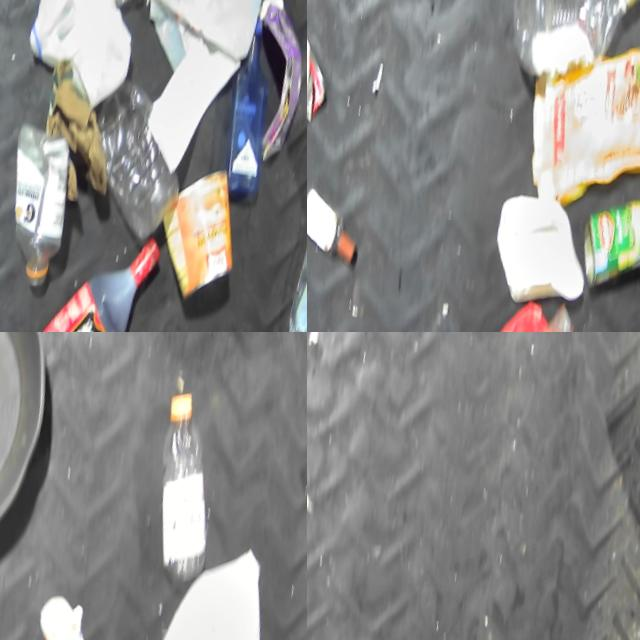can: (557, 189, 640, 295), (615, 179, 640, 301)
milk_jug: (93, 526, 282, 640), (2, 0, 148, 118), (114, 0, 284, 92)
plastic_bottle: (120, 384, 236, 590), (61, 77, 195, 252), (484, 0, 640, 101), (247, 211, 307, 332)
